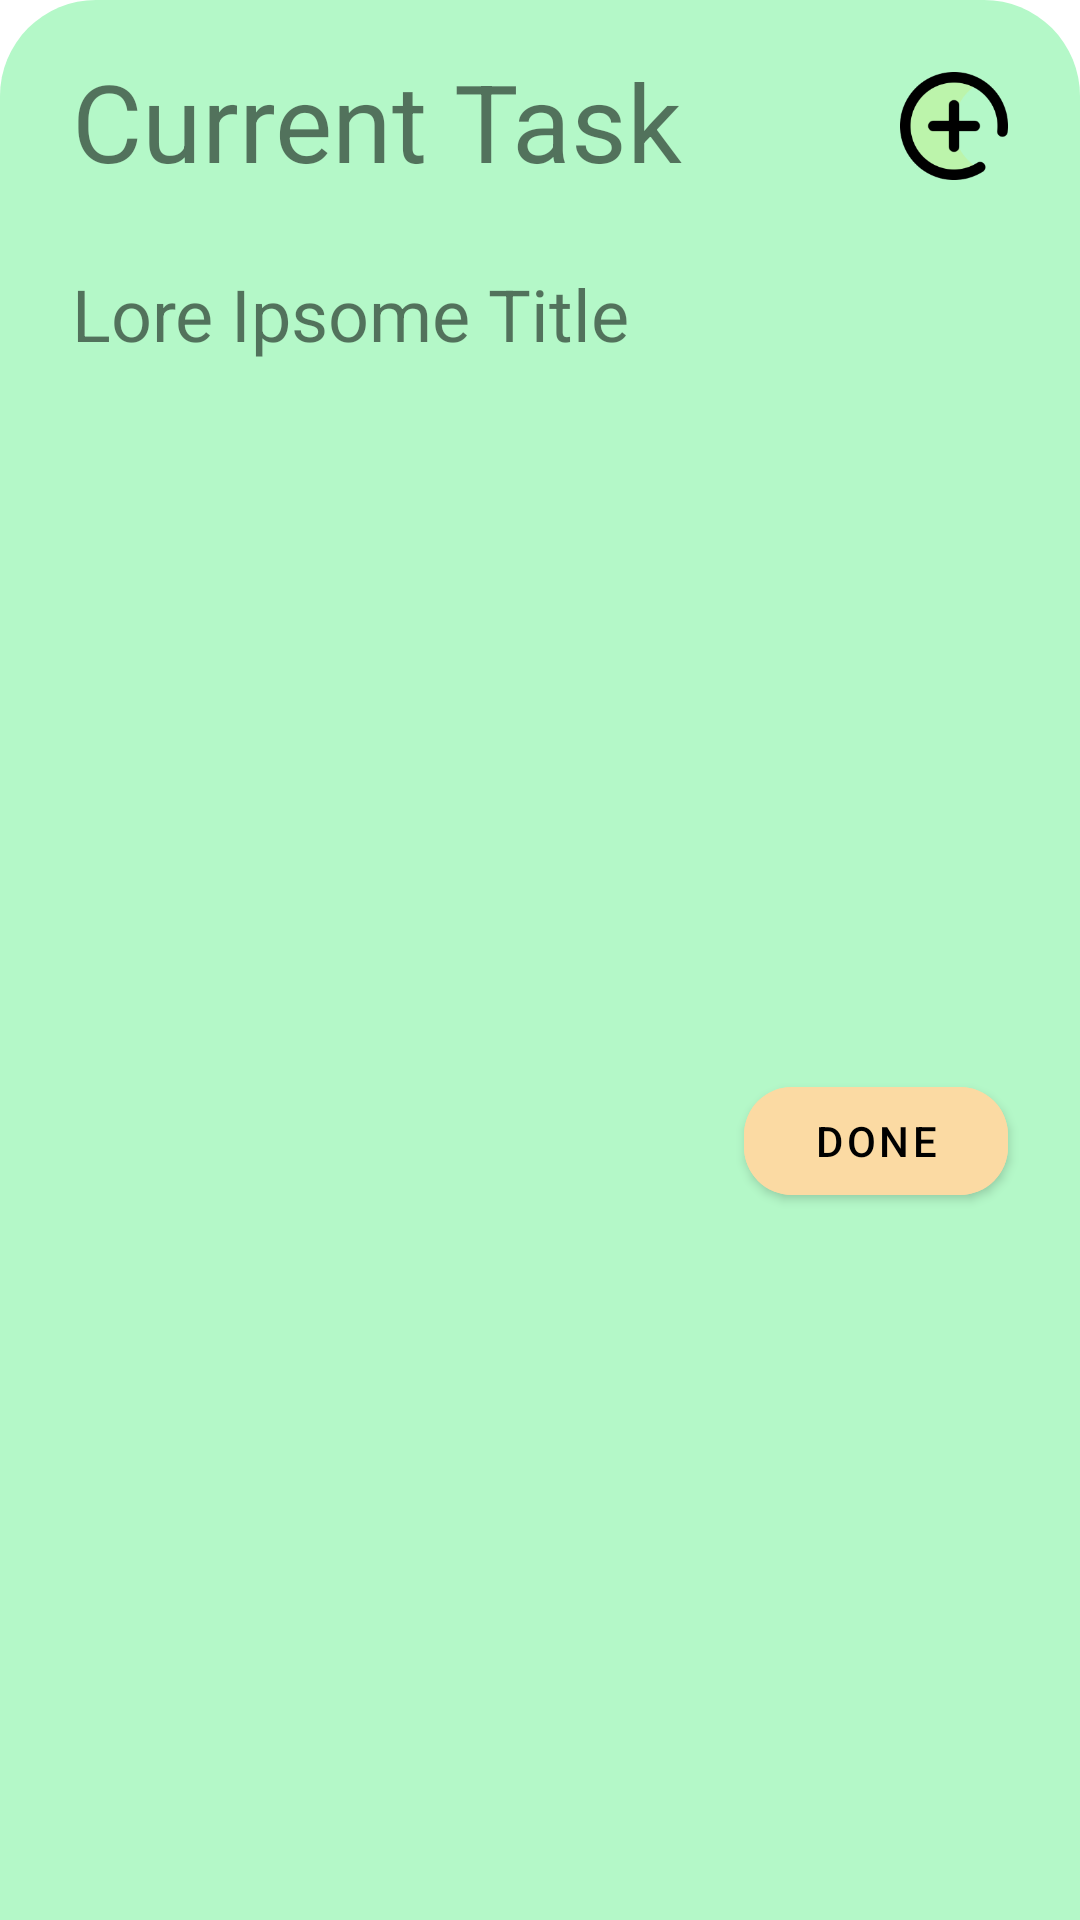

Icons on this 1080px×1920px Android screen, each with its box as (x1, y1, x2, y2):
add: (900, 72, 1008, 180)
